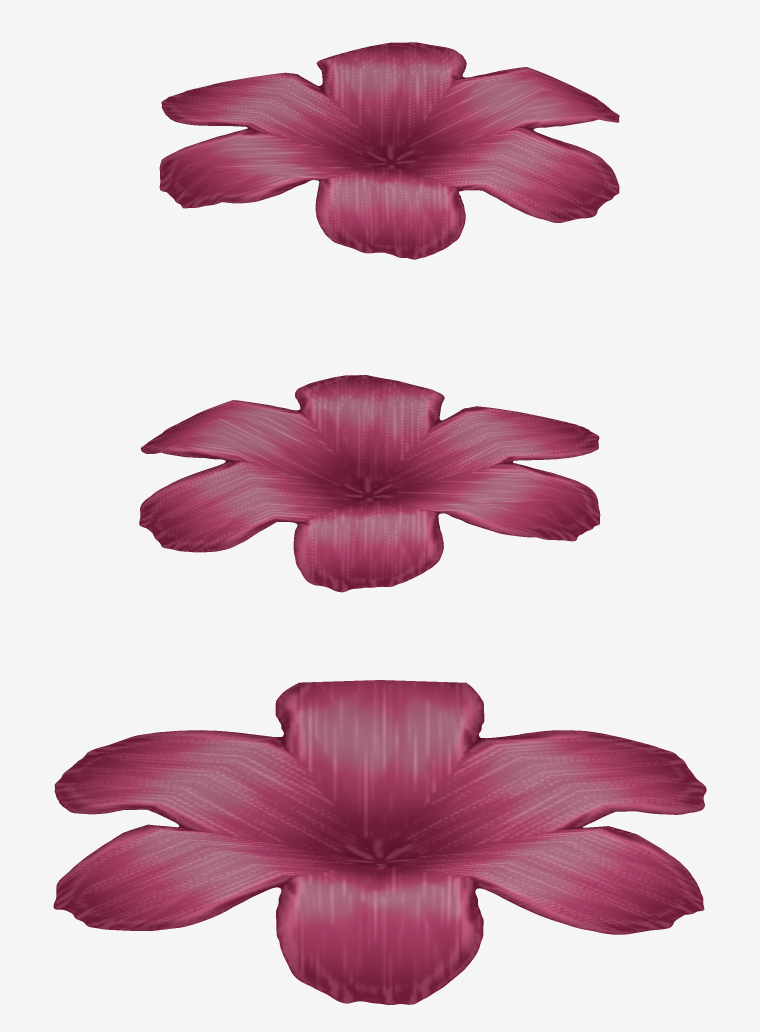
The model's file is s0_Veg_Flower_05_Art_01.glb.
3 views of the same model, one above another, from view 1: azimuth 30°, elevation 25°; view 2: azimuth 150°, elevation 25°; view 3: azimuth 270°, elevation 25° (orthographic). The views are drawn at different scales.
Parts seen in each view (by area): view 1: node_Veg_Flower_05_Art; view 2: node_Veg_Flower_05_Art; view 3: node_Veg_Flower_05_Art.
Boxes of the visible parts, <box> form: node_Veg_Flower_05_Art: <box>159,42,619,259</box>; node_Veg_Flower_05_Art: <box>139,375,600,592</box>; node_Veg_Flower_05_Art: <box>53,680,706,1004</box>.
Size of the model in its own units: 0.4689 by 0.0375 by 0.4445.
1 material, 1 textured.
